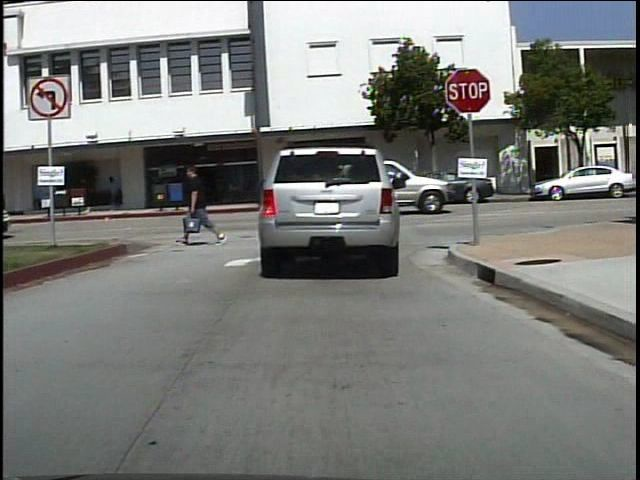person: (177, 159, 221, 248), (77, 171, 100, 216), (103, 172, 125, 213)
